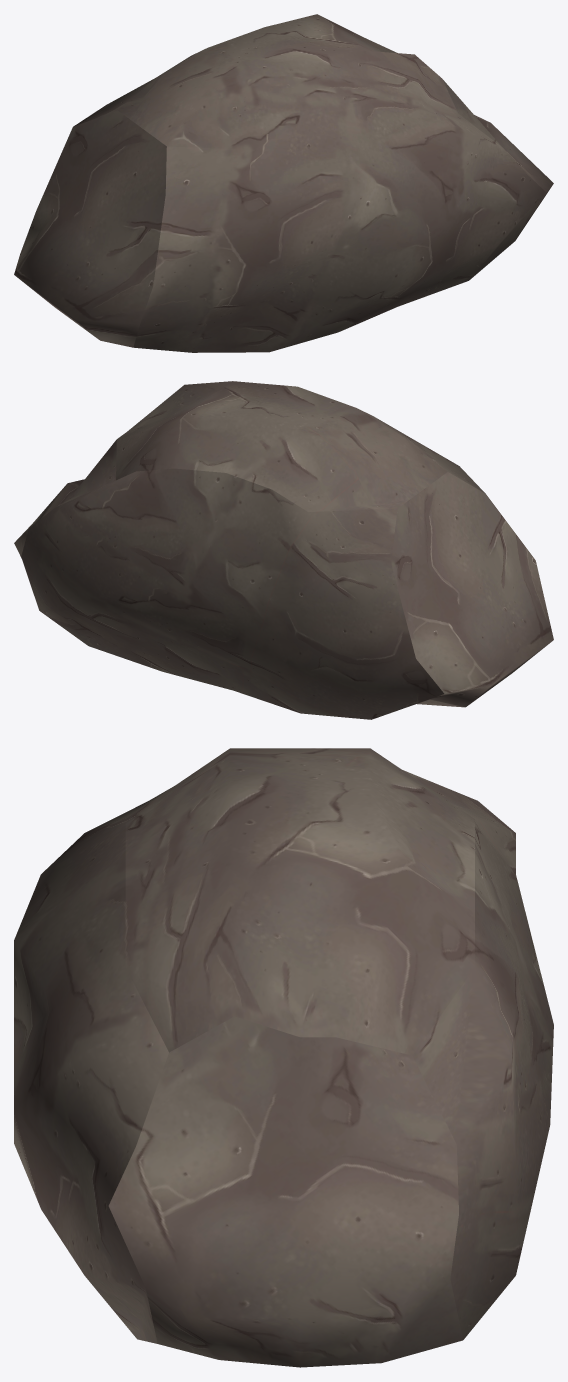
The model's file is Rova V2 Textura.fbx.
3 renders of one model, top to bottom at view 1: azimuth 30°, elevation 25°; view 2: azimuth 150°, elevation 25°; view 3: azimuth 270°, elevation 25°, orthographic. The views are drawn at different scales.
Visible parts, largest first — view 1: RocaV1; view 2: RocaV1; view 3: RocaV1.
Boxes of the visible parts, x1,y1,x2,y2 form: RocaV1: (14, 14, 553, 352); RocaV1: (14, 381, 553, 719); RocaV1: (14, 748, 553, 1367).
Size of the model in its own units: 96.6 by 49.03 by 53.1.
1 material, 1 textured.
